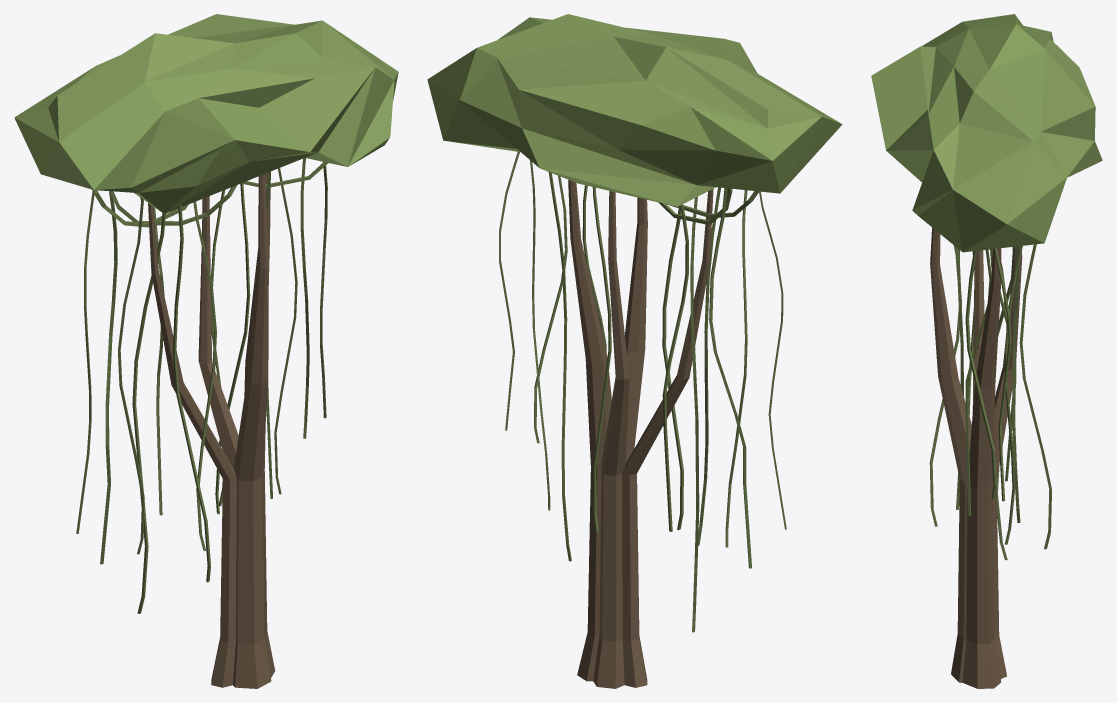
Rendered from Tree_1.fbx.
The picture shows the model from 3 angles, left to right: view 1: azimuth 30°, elevation 25°; view 2: azimuth 150°, elevation 25°; view 3: azimuth 270°, elevation 25°; orthographic projection. The views are drawn at different scales.
Visible parts, largest first — view 1: Tree_1; view 2: Tree_1; view 3: Tree_1.
Part boxes in pixels (x1=…): Tree_1: x1=14, y1=14, x2=398, y2=688; Tree_1: x1=427, y1=14, x2=842, y2=688; Tree_1: x1=871, y1=14, x2=1102, y2=688.
Size of the model in its own units: 408 by 696 by 236.
1 material, 1 textured.
